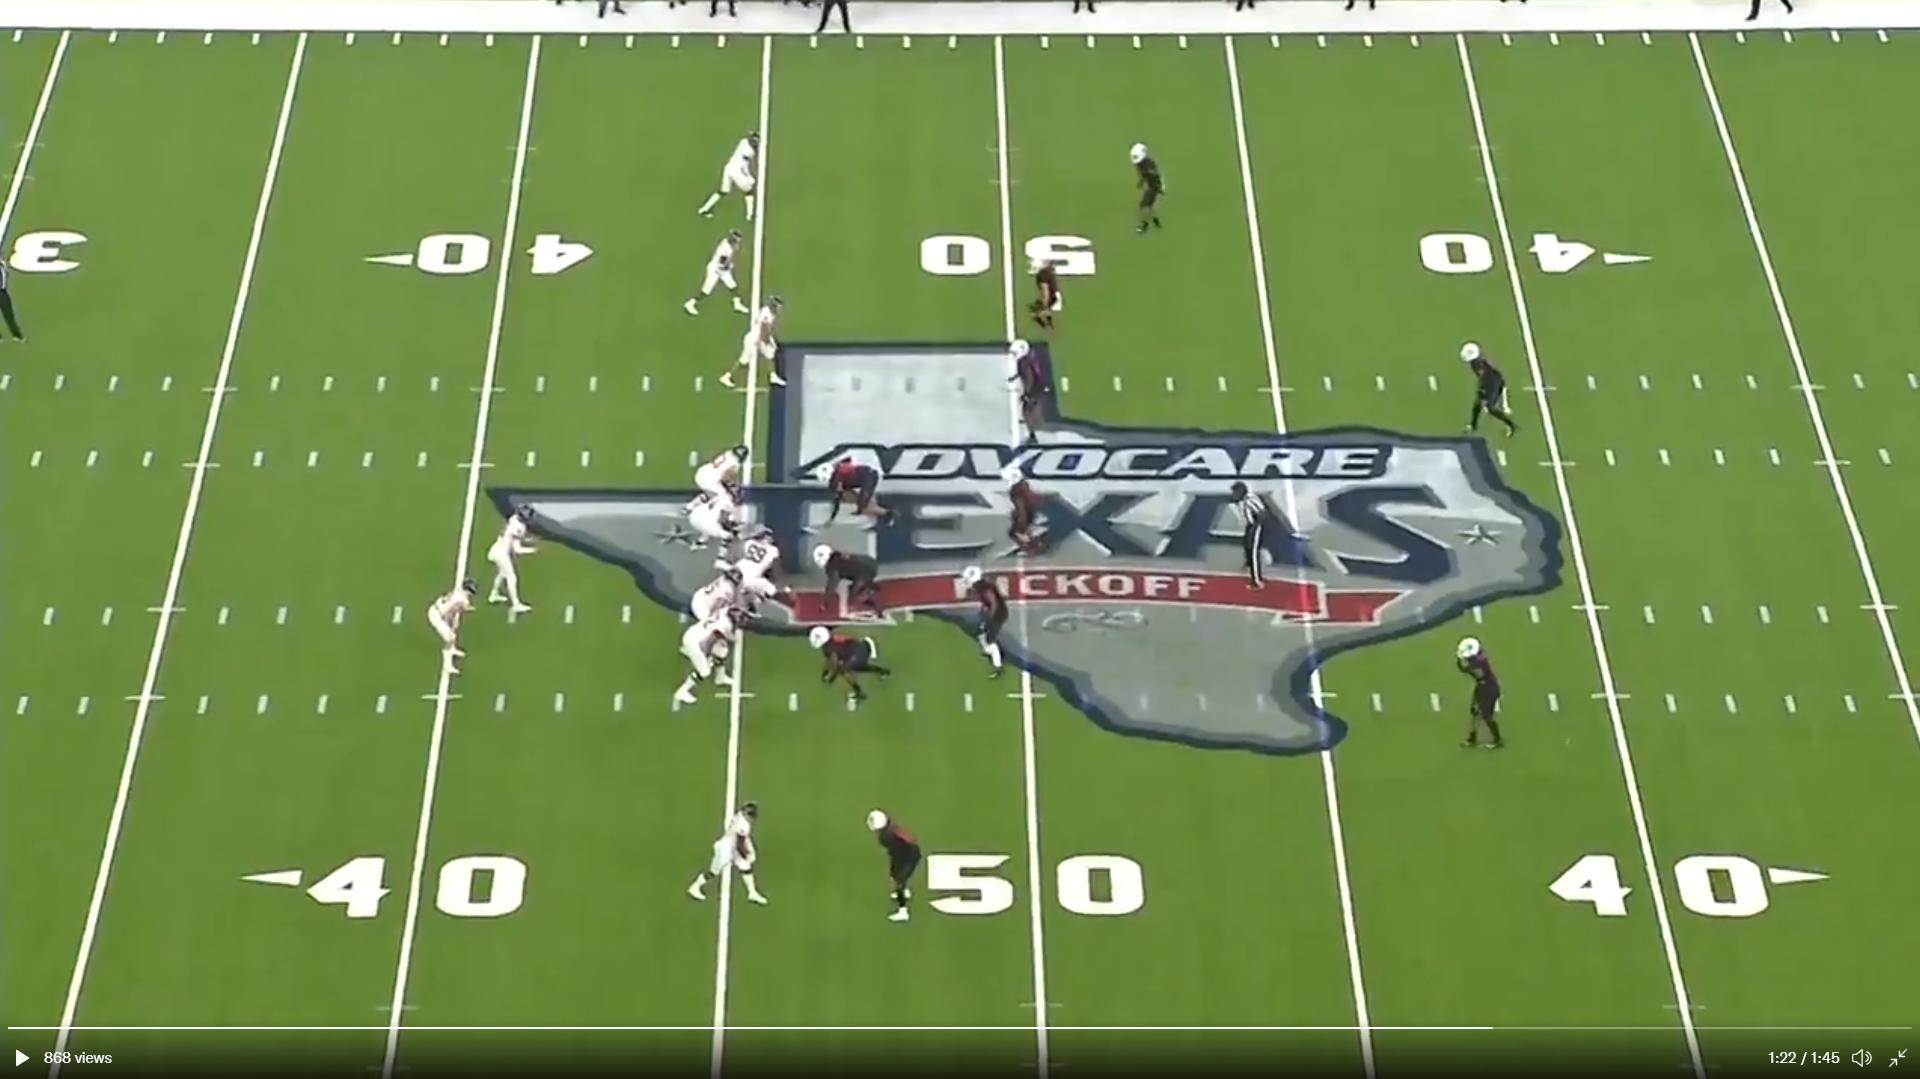player: (685, 793, 773, 913), (863, 806, 932, 930), (804, 621, 897, 709), (714, 293, 790, 398), (1454, 336, 1526, 444), (676, 609, 750, 713), (487, 500, 551, 620), (1454, 630, 1512, 757), (681, 228, 755, 327), (697, 129, 771, 228), (1007, 333, 1064, 455), (809, 544, 895, 624), (955, 564, 1012, 681), (720, 544, 797, 624), (425, 575, 481, 682), (1001, 461, 1054, 571), (1122, 136, 1175, 245), (821, 451, 896, 528), (693, 490, 756, 562), (688, 442, 752, 511), (690, 569, 750, 627), (1027, 252, 1066, 335)
ref: (1230, 472, 1281, 602), (0, 237, 29, 349), (1744, 0, 1809, 27)
